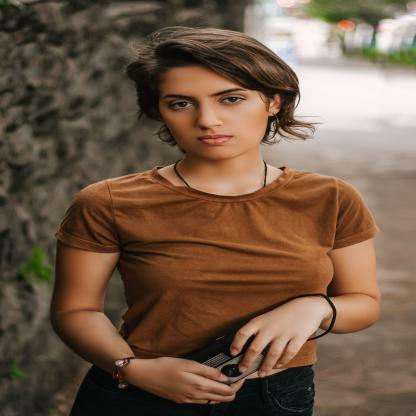Eye: (218, 94, 248, 107), (165, 99, 197, 111)
Mouth: (194, 133, 235, 146)
Nose: (196, 103, 224, 129)
